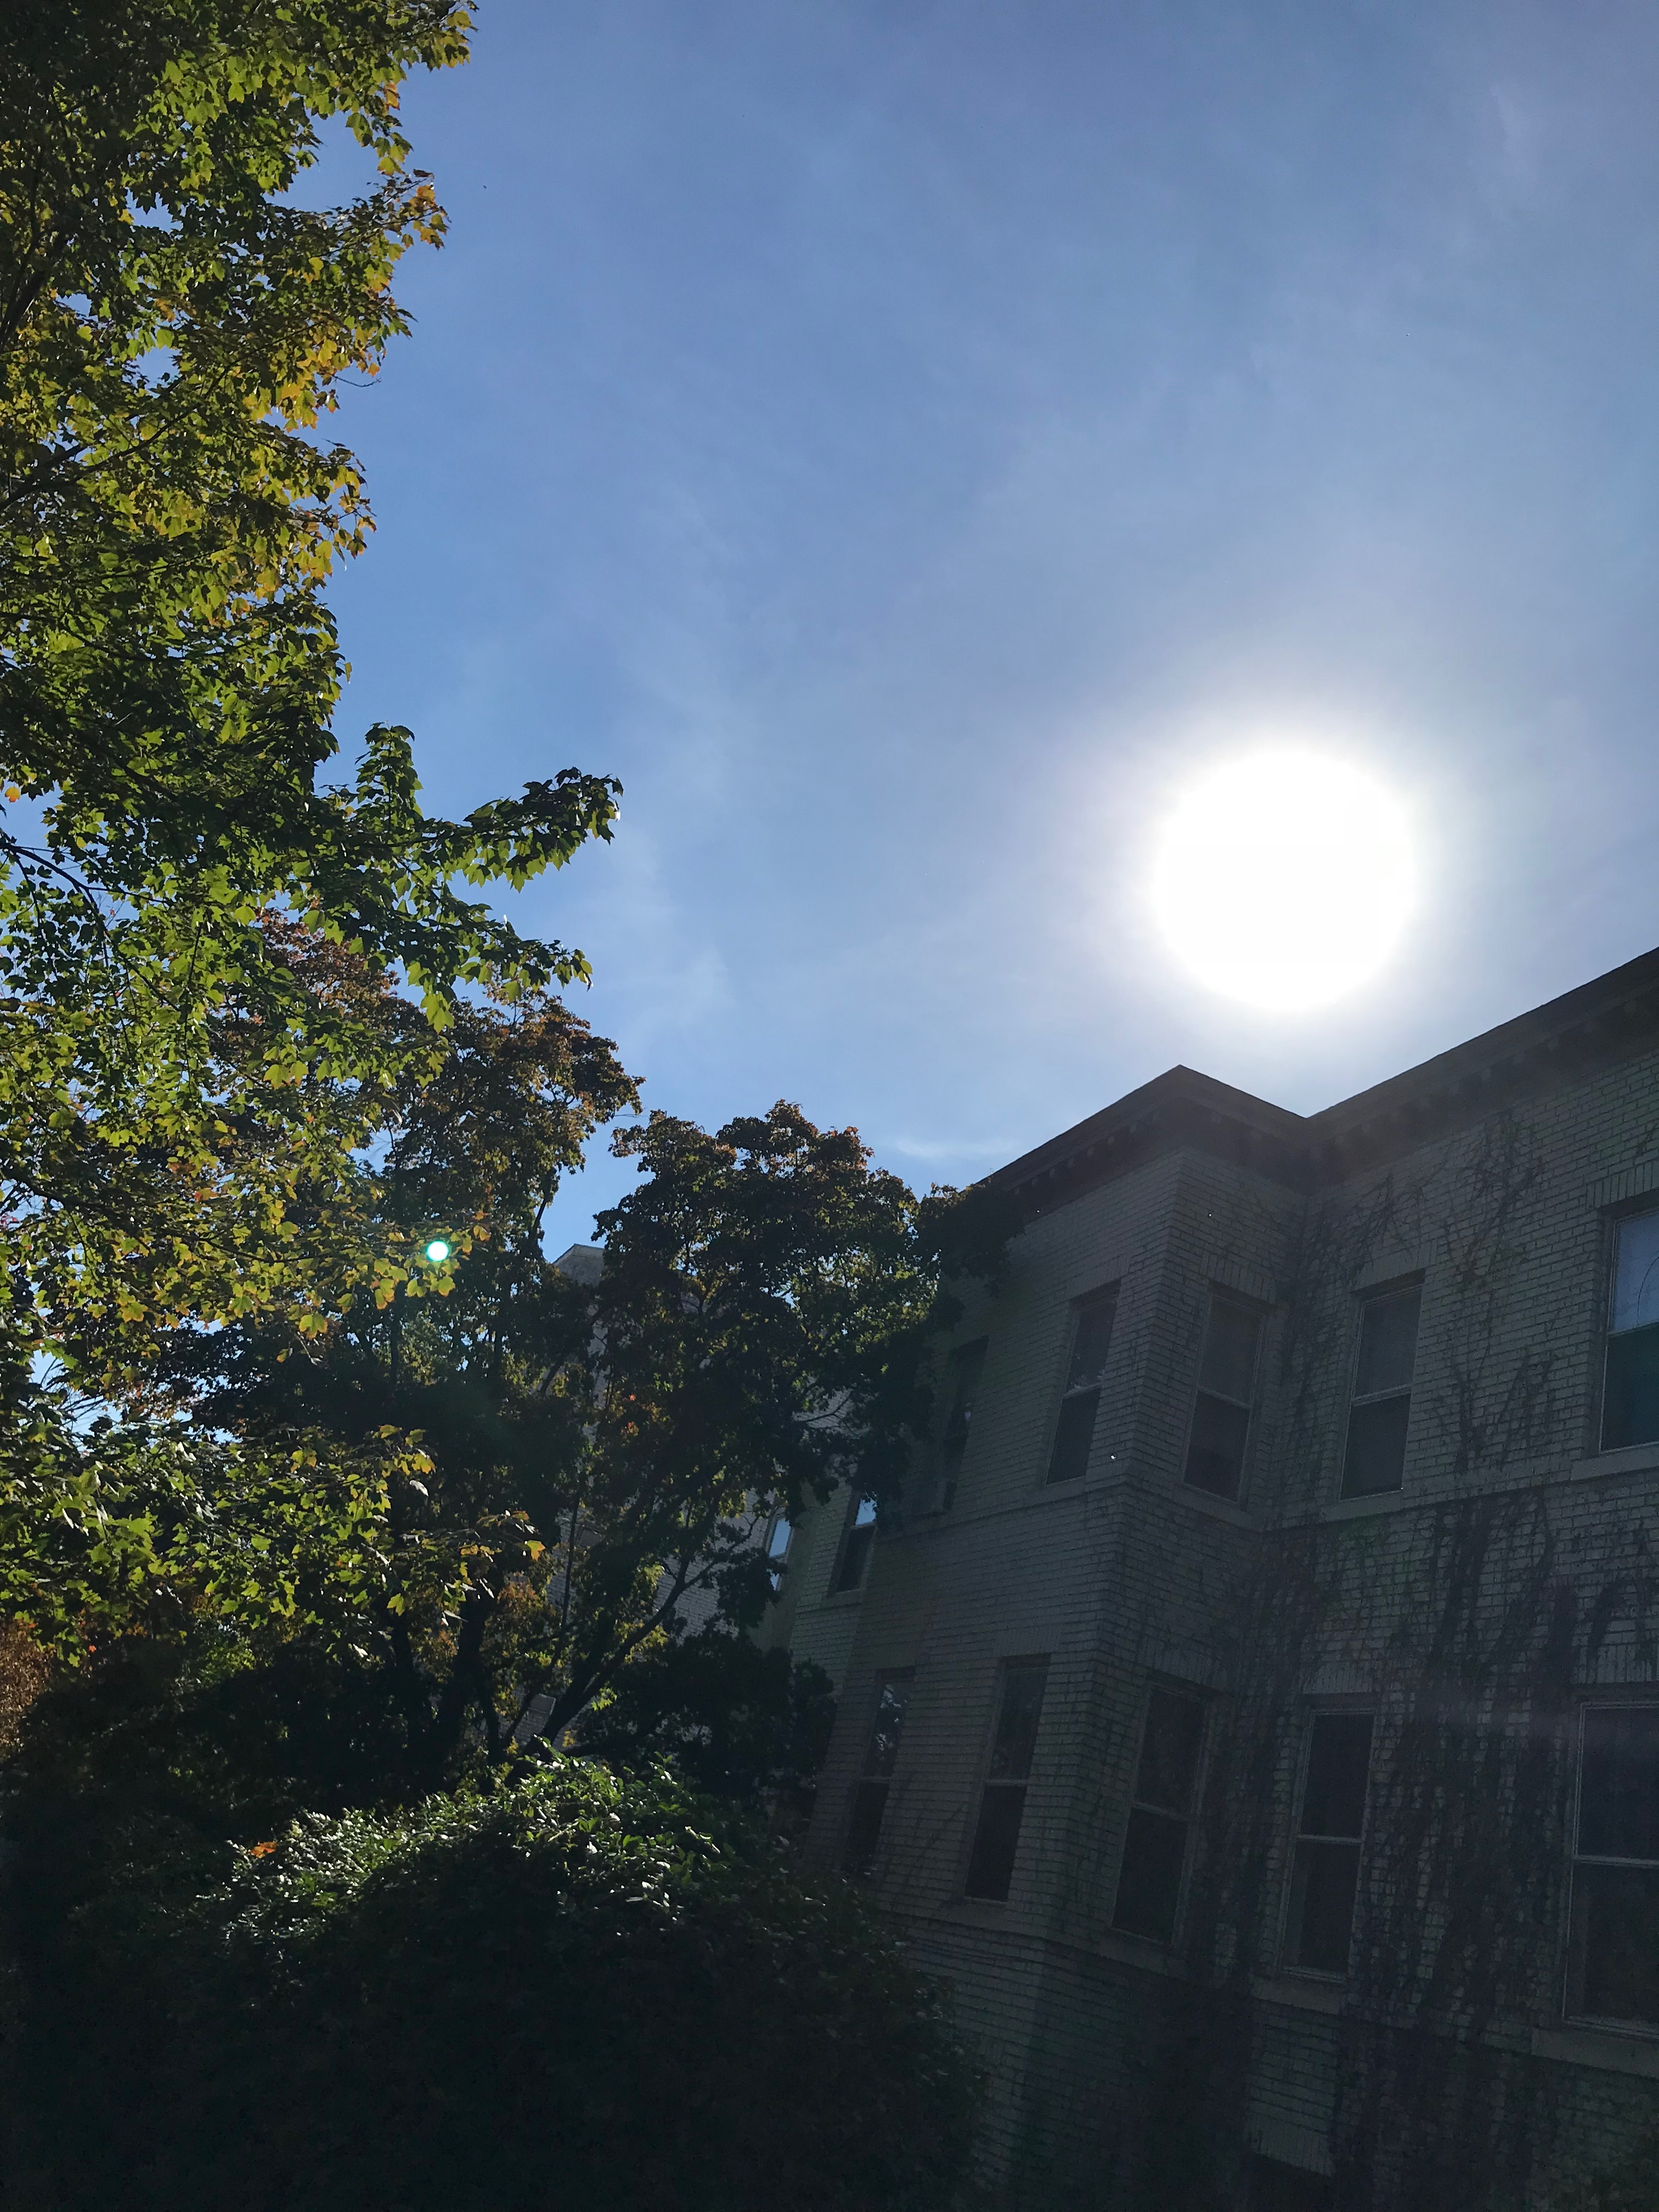flare: (425, 1238, 451, 1264)
